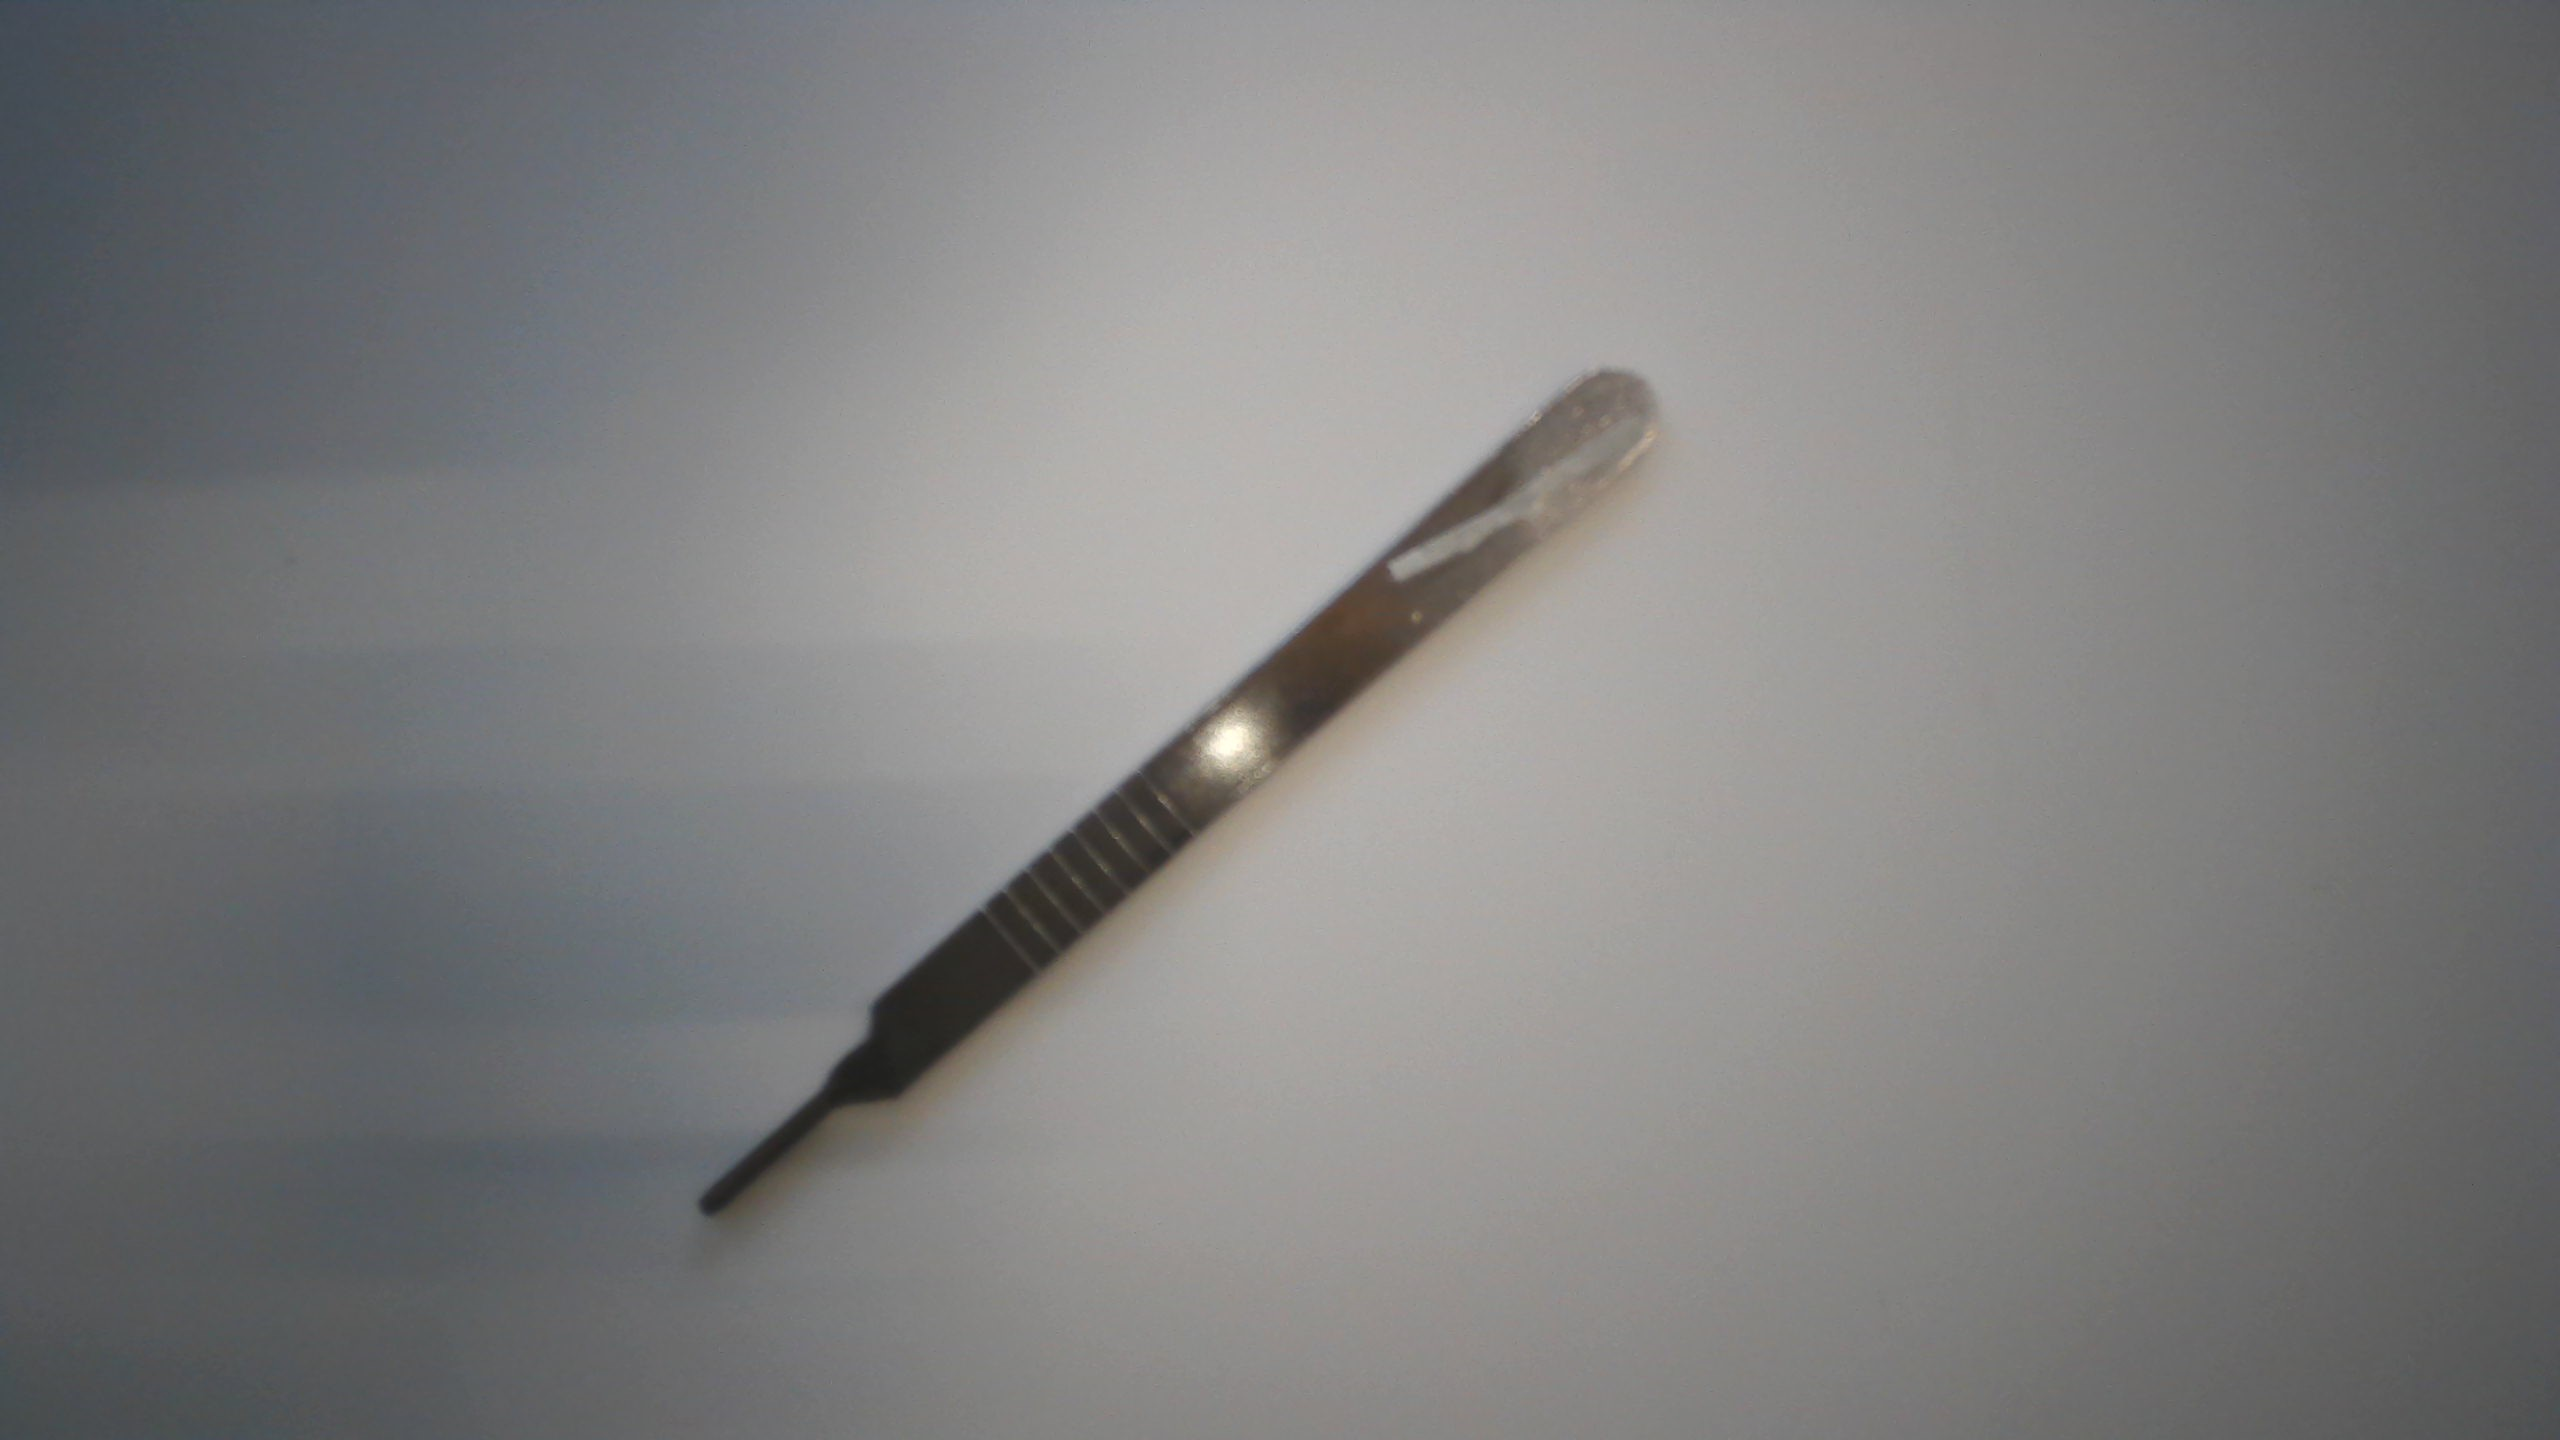Scratches: (1368, 399, 1662, 585)
